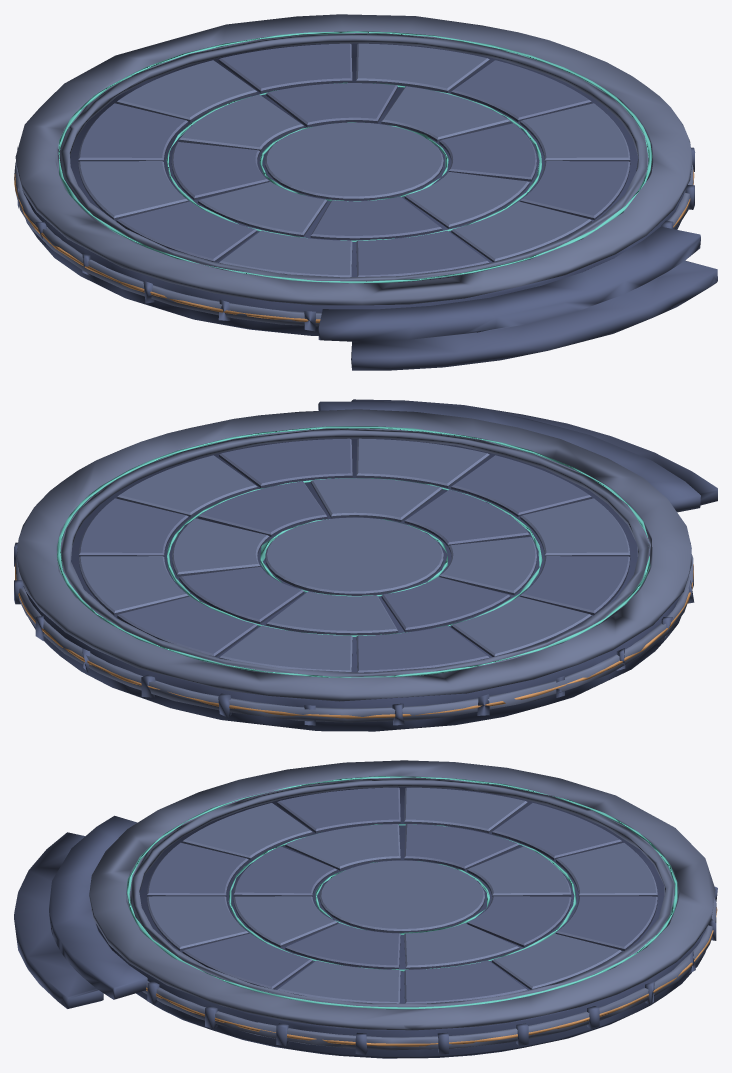
File: deck.glb
3 renders of one model, top to bottom at view 1: azimuth 30°, elevation 25°; view 2: azimuth 150°, elevation 25°; view 3: azimuth 270°, elevation 25°, orthographic. The views are drawn at different scales.
Parts seen in each view (by area): view 1: deck_tiles, deck, deck_glow, deck_side_glow; view 2: deck_tiles, deck, deck_glow, deck_side_glow; view 3: deck_tiles, deck, deck_glow, deck_side_glow.
Part boxes in pixels (x1,y1,x2,y2): deck_tiles: [78, 43, 630, 277]; deck: [14, 14, 717, 370]; deck_glow: [58, 31, 652, 283]; deck_side_glow: [14, 170, 694, 322]; deck_tiles: [79, 438, 630, 672]; deck: [14, 399, 717, 731]; deck_glow: [57, 426, 650, 677]; deck_side_glow: [15, 563, 693, 718]; deck_tiles: [147, 787, 657, 1003]; deck: [14, 760, 717, 1058]; deck_glow: [127, 776, 677, 1009]; deck_side_glow: [146, 907, 717, 1046].
Bounding box in the file's own units: 8.76 × 0.622 × 9.79.
